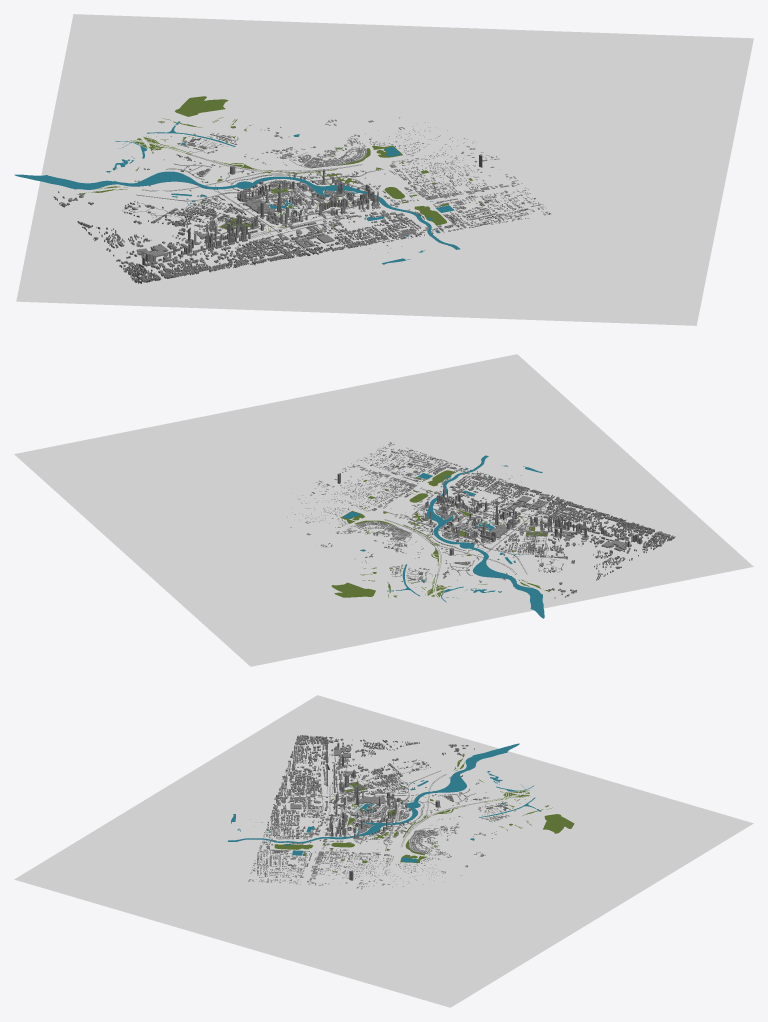
File: map.glb
3 renders of one model, top to bottom at view 1: azimuth 30°, elevation 25°; view 2: azimuth 150°, elevation 25°; view 3: azimuth 270°, elevation 25°, orthographic. The views are drawn at different scales.
Parts seen in each view (by area): view 1: land, build, water, road, tree; view 2: land, build, water, road, tree; view 3: land, build, water, road, tree.
Part boxes in pixels (left/top/right/bottom): land: left=16, top=14, right=753, bottom=325; build: left=53, top=117, right=550, bottom=283; water: left=14, top=121, right=460, bottom=264; road: left=122, top=132, right=396, bottom=250; tree: left=77, top=96, right=481, bottom=252; land: left=14, top=354, right=753, bottom=666; build: left=287, top=442, right=675, bottom=598; water: left=343, top=455, right=544, bottom=618; road: left=383, top=502, right=560, bottom=577; tree: left=331, top=468, right=549, bottom=597; land: left=14, top=695, right=753, bottom=1007; build: left=248, top=735, right=509, bottom=889; water: left=227, top=743, right=541, bottom=862; road: left=287, top=760, right=510, bottom=853; tree: left=250, top=754, right=574, bottom=872.
Bounding box in the file's own units: 22863 × 1210 × 22863.
Materials: 7 (1 with a texture image).
